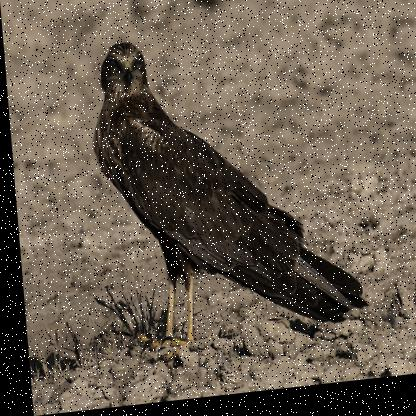Burung: (82, 27, 361, 353)
